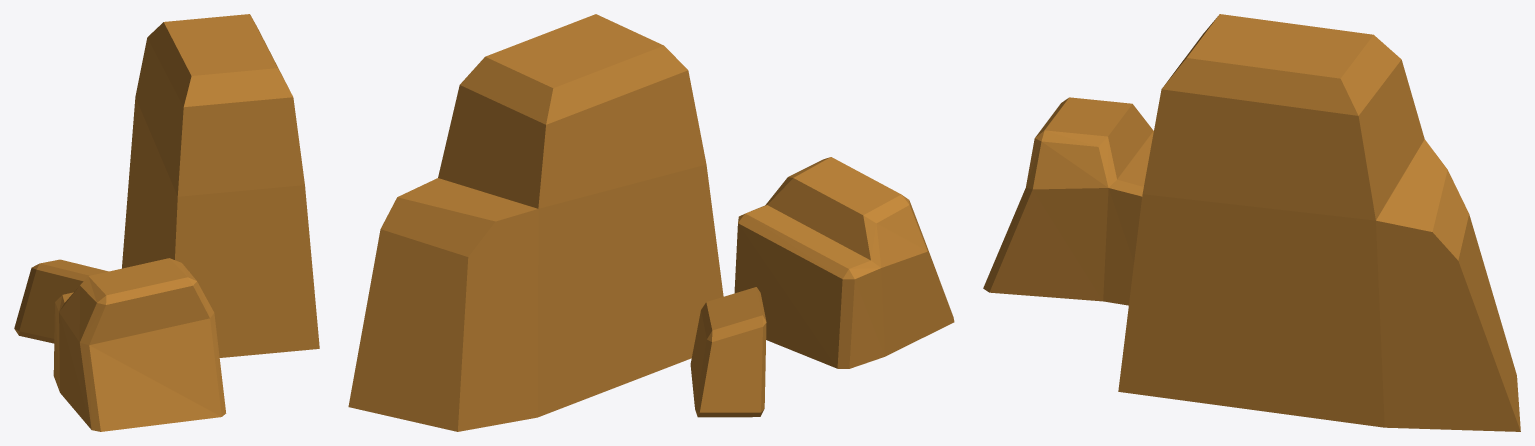
3 renders of one model, left to right at view 1: azimuth 30°, elevation 25°; view 2: azimuth 150°, elevation 25°; view 3: azimuth 270°, elevation 25°, orthographic. The views are drawn at different scales.
Visible parts, largest first — view 1: da_3, da_1, da_2; view 2: da_3, da_1, da_2; view 3: da_3, da_1.
Boxes of the visible parts, <box> form: da_3: <box>122,14,319,357</box>; da_1: <box>53,258,226,431</box>; da_2: <box>14,259,108,343</box>; da_3: <box>348,14,723,431</box>; da_1: <box>734,157,954,368</box>; da_2: <box>690,287,766,417</box>; da_3: <box>1118,14,1520,431</box>; da_1: <box>983,97,1153,305</box>.
Bounding box in the file's own units: 1.82 × 1.39 × 2.08.
Materials: 1 (1 with a texture image).
